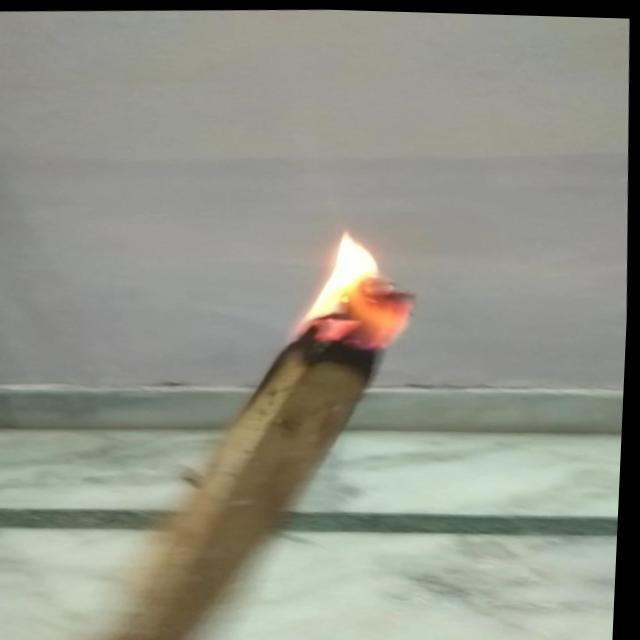fire: (291, 224, 421, 346)
